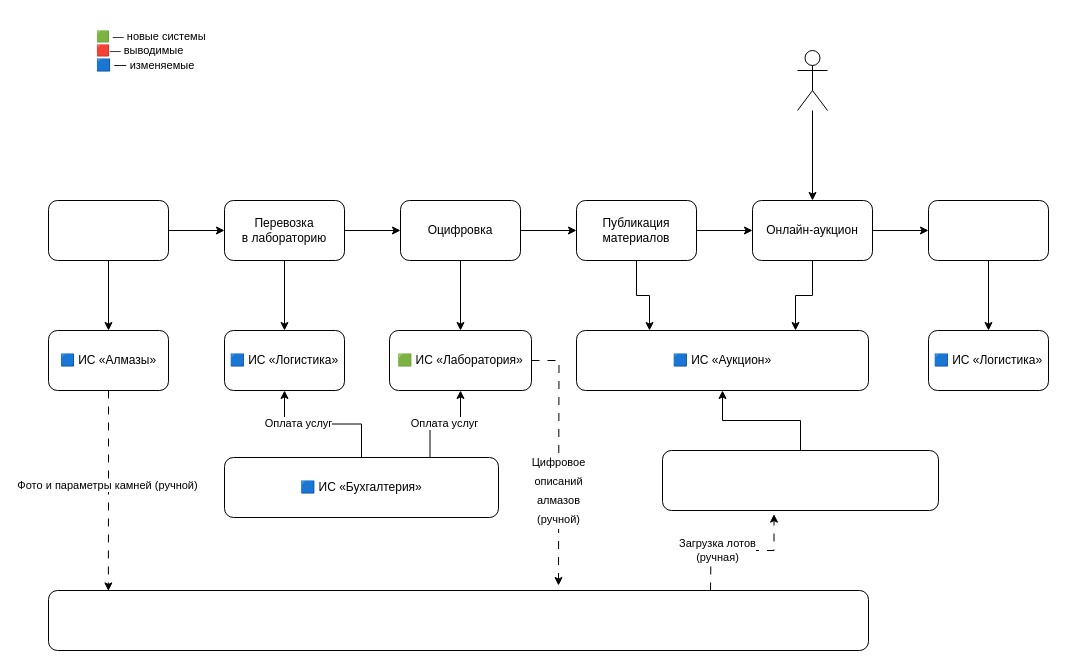
The diagram is 1066 pixels wide and 668 high, and some of its shapes have lost their labels. Here are the shapes that lost their labels. From the top down, the box of each, then its label:
(796, 50, 828, 110): Покупатель
(48, 200, 168, 260): Отбор алмазов
(928, 200, 1048, 260): Доставка покупателю
(662, 450, 938, 510): 🟩 Облачное хранилище
(48, 590, 868, 650): 🟩 Excel-реестры
